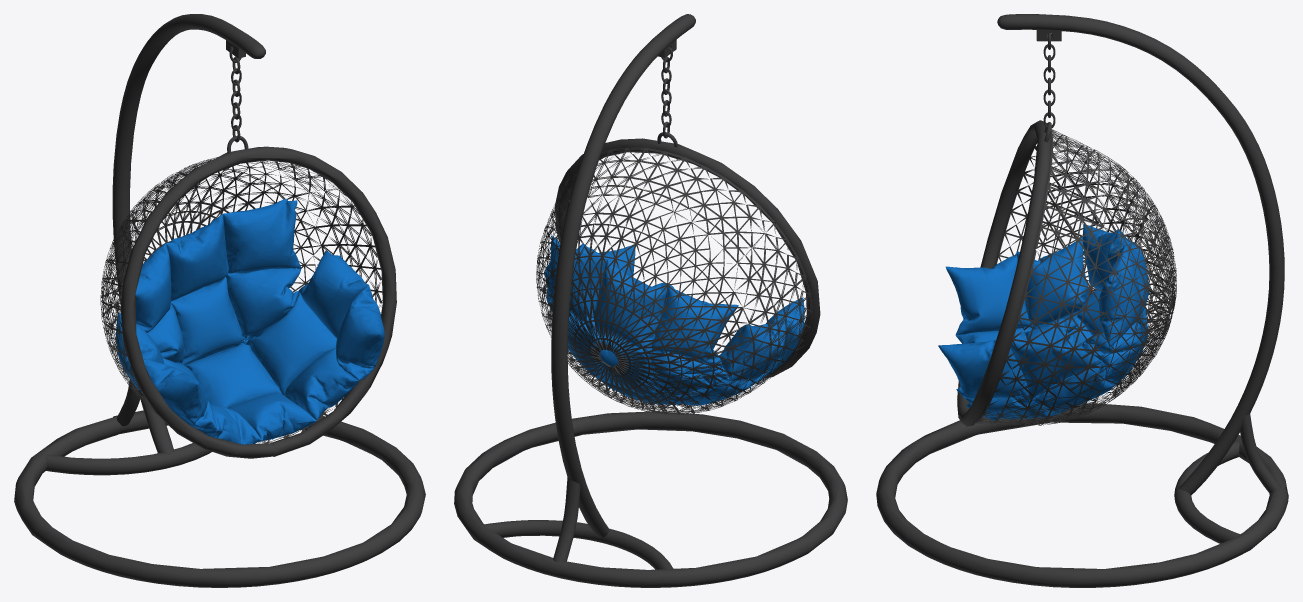
The model's file is chair-19.glb.
3 renders of one model, left to right at view 1: azimuth 30°, elevation 25°; view 2: azimuth 150°, elevation 25°; view 3: azimuth 270°, elevation 25°, orthographic. The views are drawn at different scales.
Visible parts, largest first — view 1: cushion, part6, part5, basket, part2, part8, part7, part1; view 2: basket, cushion, part6, part2, part5, part8, part1, part7; view 3: cushion, basket, part6, part2, part5, part8, part1, part7.
Part boxes in pixels (x1=…): cushion: x1=116, y1=198, x2=384, y2=444; part6: x1=14, y1=410, x2=425, y2=587; part5: x1=120, y1=146, x2=396, y2=458; basket: x1=100, y1=157, x2=382, y2=443; part2: x1=112, y1=14, x2=265, y2=454; part8: x1=45, y1=443, x2=211, y2=475; part7: x1=227, y1=47, x2=248, y2=153; part1: x1=116, y1=379, x2=140, y2=426; basket: x1=536, y1=147, x2=812, y2=414; cushion: x1=544, y1=235, x2=804, y2=405; part6: x1=454, y1=411, x2=847, y2=587; part2: x1=551, y1=14, x2=695, y2=537; part5: x1=555, y1=138, x2=820, y2=378; part8: x1=483, y1=520, x2=673, y2=569; part1: x1=553, y1=477, x2=580, y2=565; part7: x1=657, y1=47, x2=677, y2=147; cushion: x1=938, y1=224, x2=1148, y2=420; basket: x1=976, y1=129, x2=1176, y2=425; part6: x1=876, y1=403, x2=1288, y2=587; part2: x1=997, y1=14, x2=1284, y2=495; part5: x1=957, y1=120, x2=1051, y2=426; part8: x1=1174, y1=441, x2=1240, y2=543; part1: x1=1240, y1=413, x2=1281, y2=493; part7: x1=1043, y1=33, x2=1055, y2=142.
Size of the model in its own units: 7.98 by 10.44 by 7.98.
